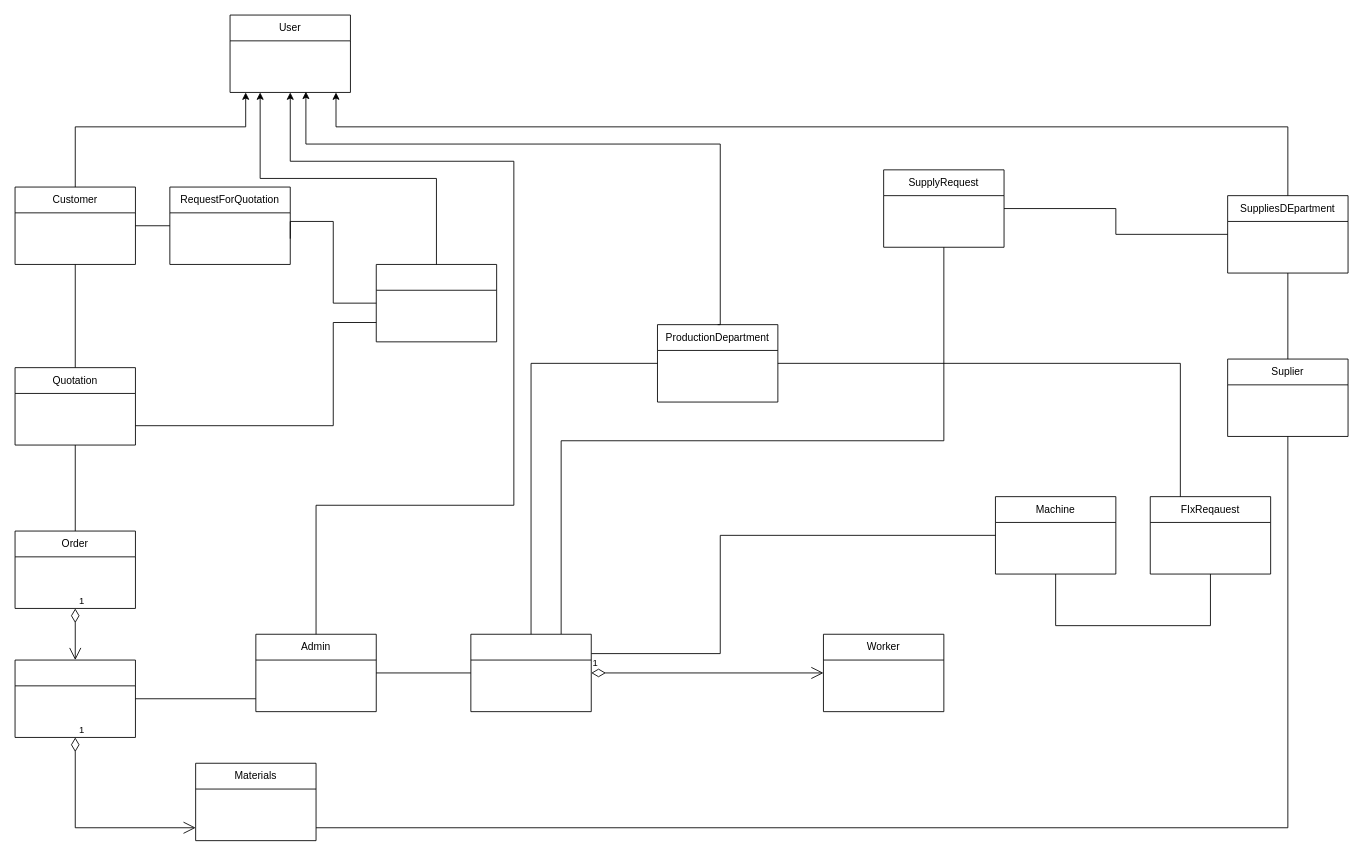
The diagram is 1363 pixels wide and 857 high, and some of its shapes have lost their labels. Each missing label, with the centre of its shape:
"Product" goes at point 74,698.
"Project" goes at point 530,672.
"SalesDepartment" goes at point 436,303.
